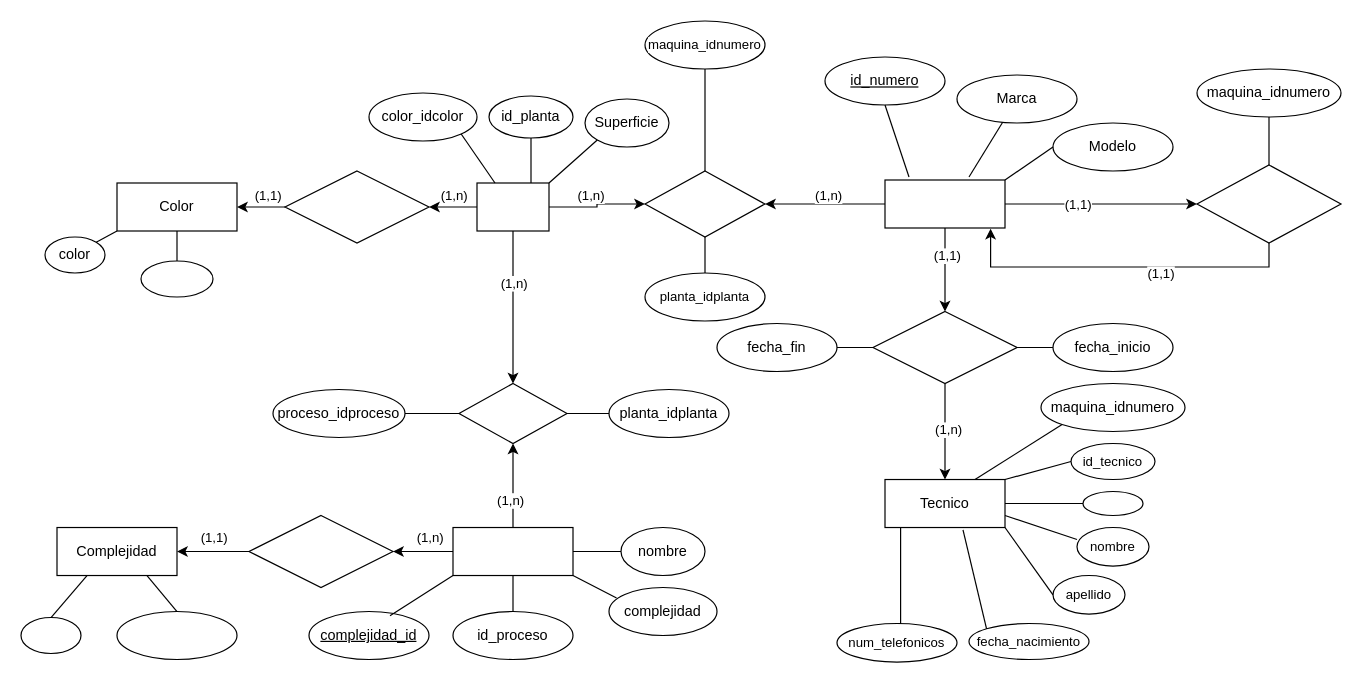
This 1362x684 diagram has some shape labels left out. The shapes that lost their labels are listed below. From the top down, each one's centre as x and y in pixels, then its label:
At [356,206]: "identificada por".
At [512,206]: "Planta".
At [704,203]: "Se encuentran".
At [944,203]: "Maquina".
At [1268,203]: "es reemplazada por".
At [176,278]: "id_color".
At [944,347]: "es operada por".
At [512,413]: "consta de".
At [1112,503]: "DNI".
At [320,551]: "tiene un grado de".
At [512,551]: "Proceso".
At [50,635]: "grado".
At [176,635]: "id_complejidad".
